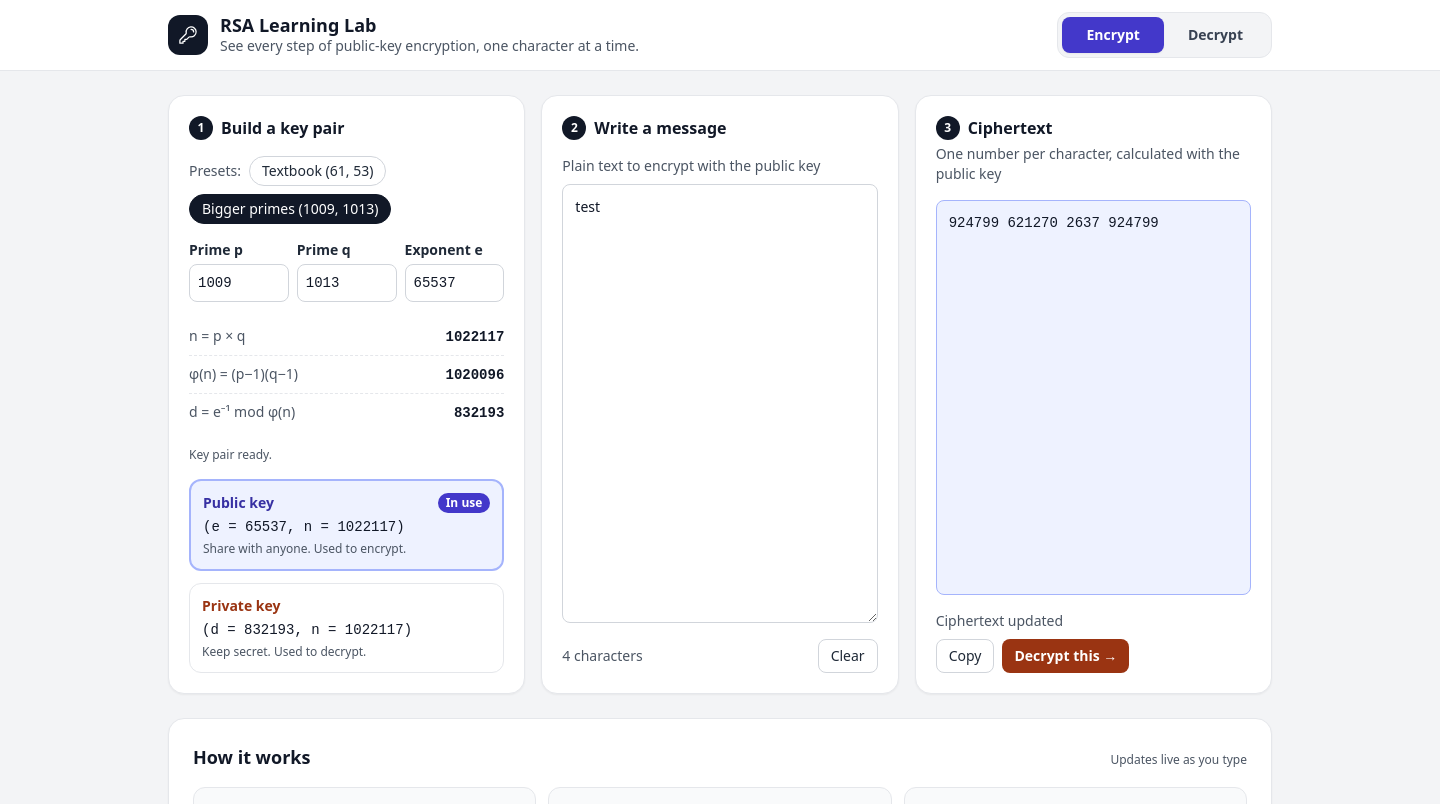
Test case: live encryption › shows unsupported-character feedback without erasing the plaintext or key
The image size is (1440, 804).
Expected: the text named "Ciphertext output" reads "924799 621270 2637 924799", [949,215,1159,231]
Click the button "Textbook (61, 53)": (318,171) [249,156,386,186]
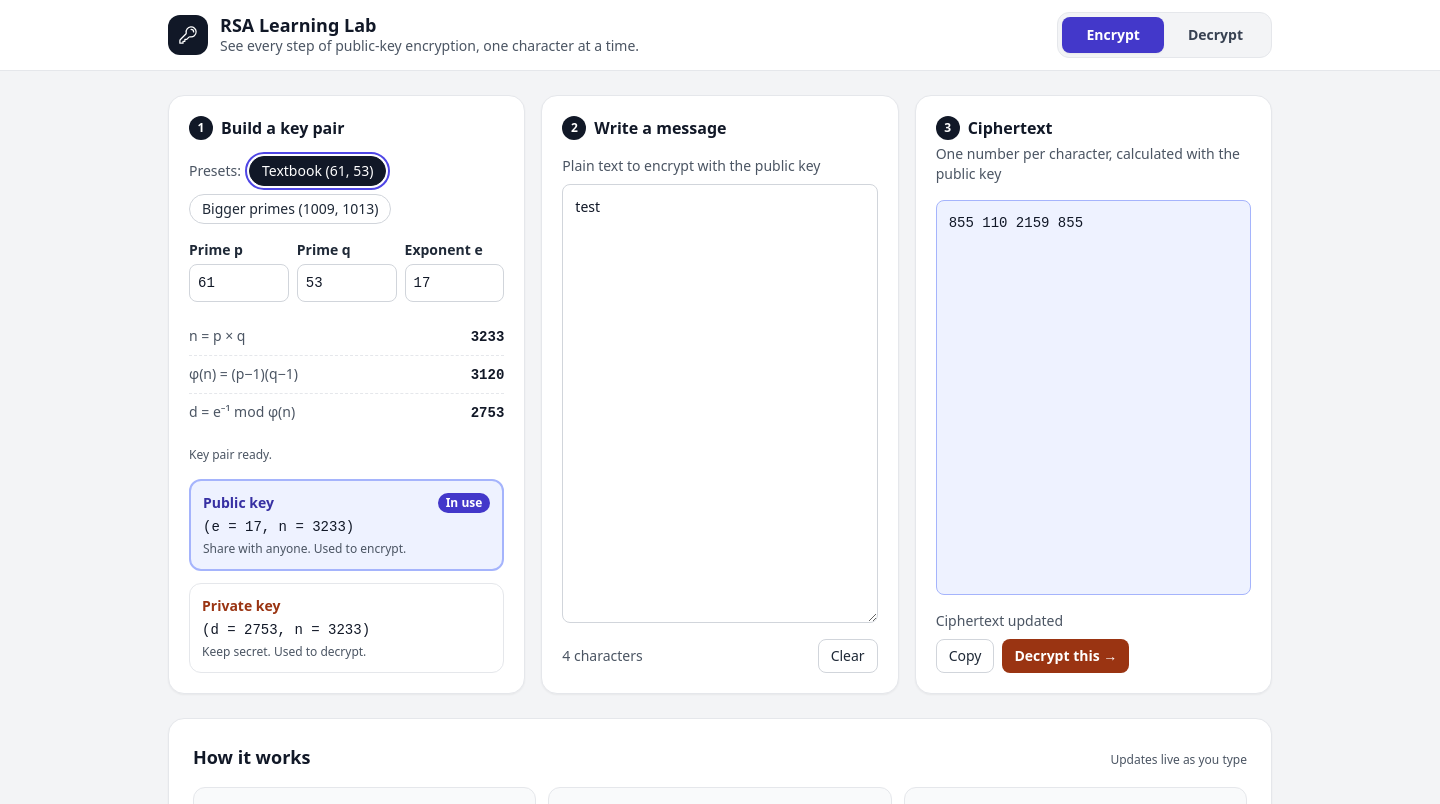
Expected: the text "3233" is shown, [471,327,504,347]
Expected: the text "3120" is shown, [471,365,504,385]
Expected: the text "2753" is shown, [471,403,504,423]
Replace the text in the text box labelled "Plain text to encrypt with the public key" with "hi😀": (720,404) [562,184,878,623]
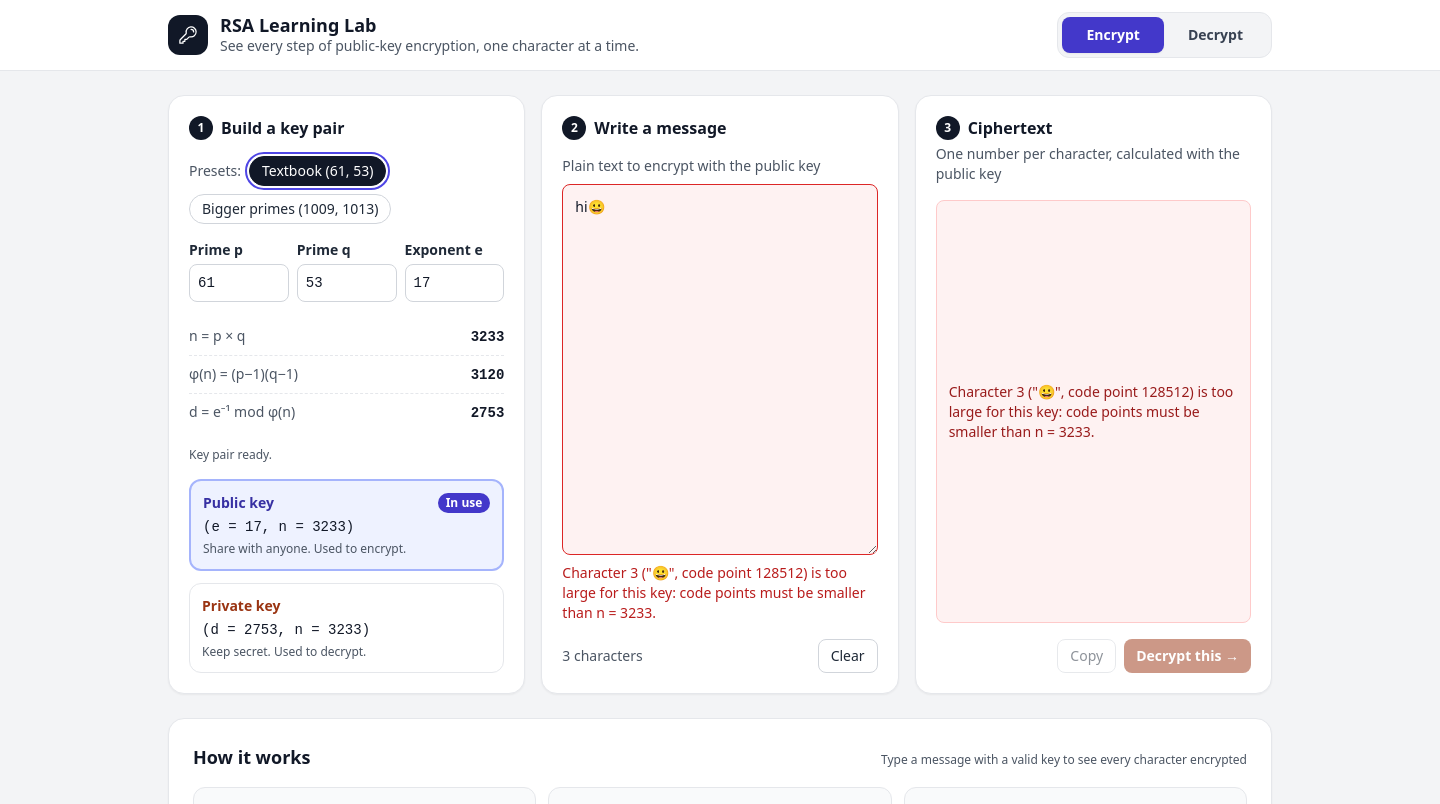
Expected: the field labelled "Prime p" holds "61", [189,264,289,302]
Expected: the 1st message shows "too large for this key", [949,382,1233,440]
Expected: the 1st message no longer shows "855 110 2159 855", [936,200,1251,623]
